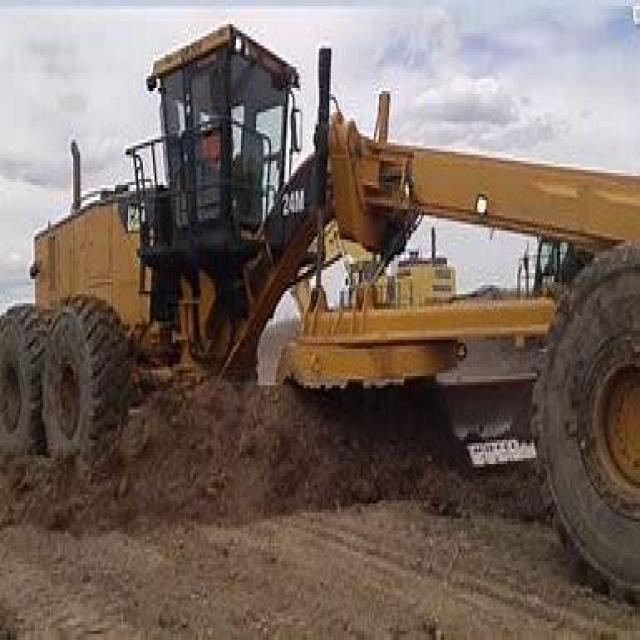Grader: (2, 9, 638, 619)
